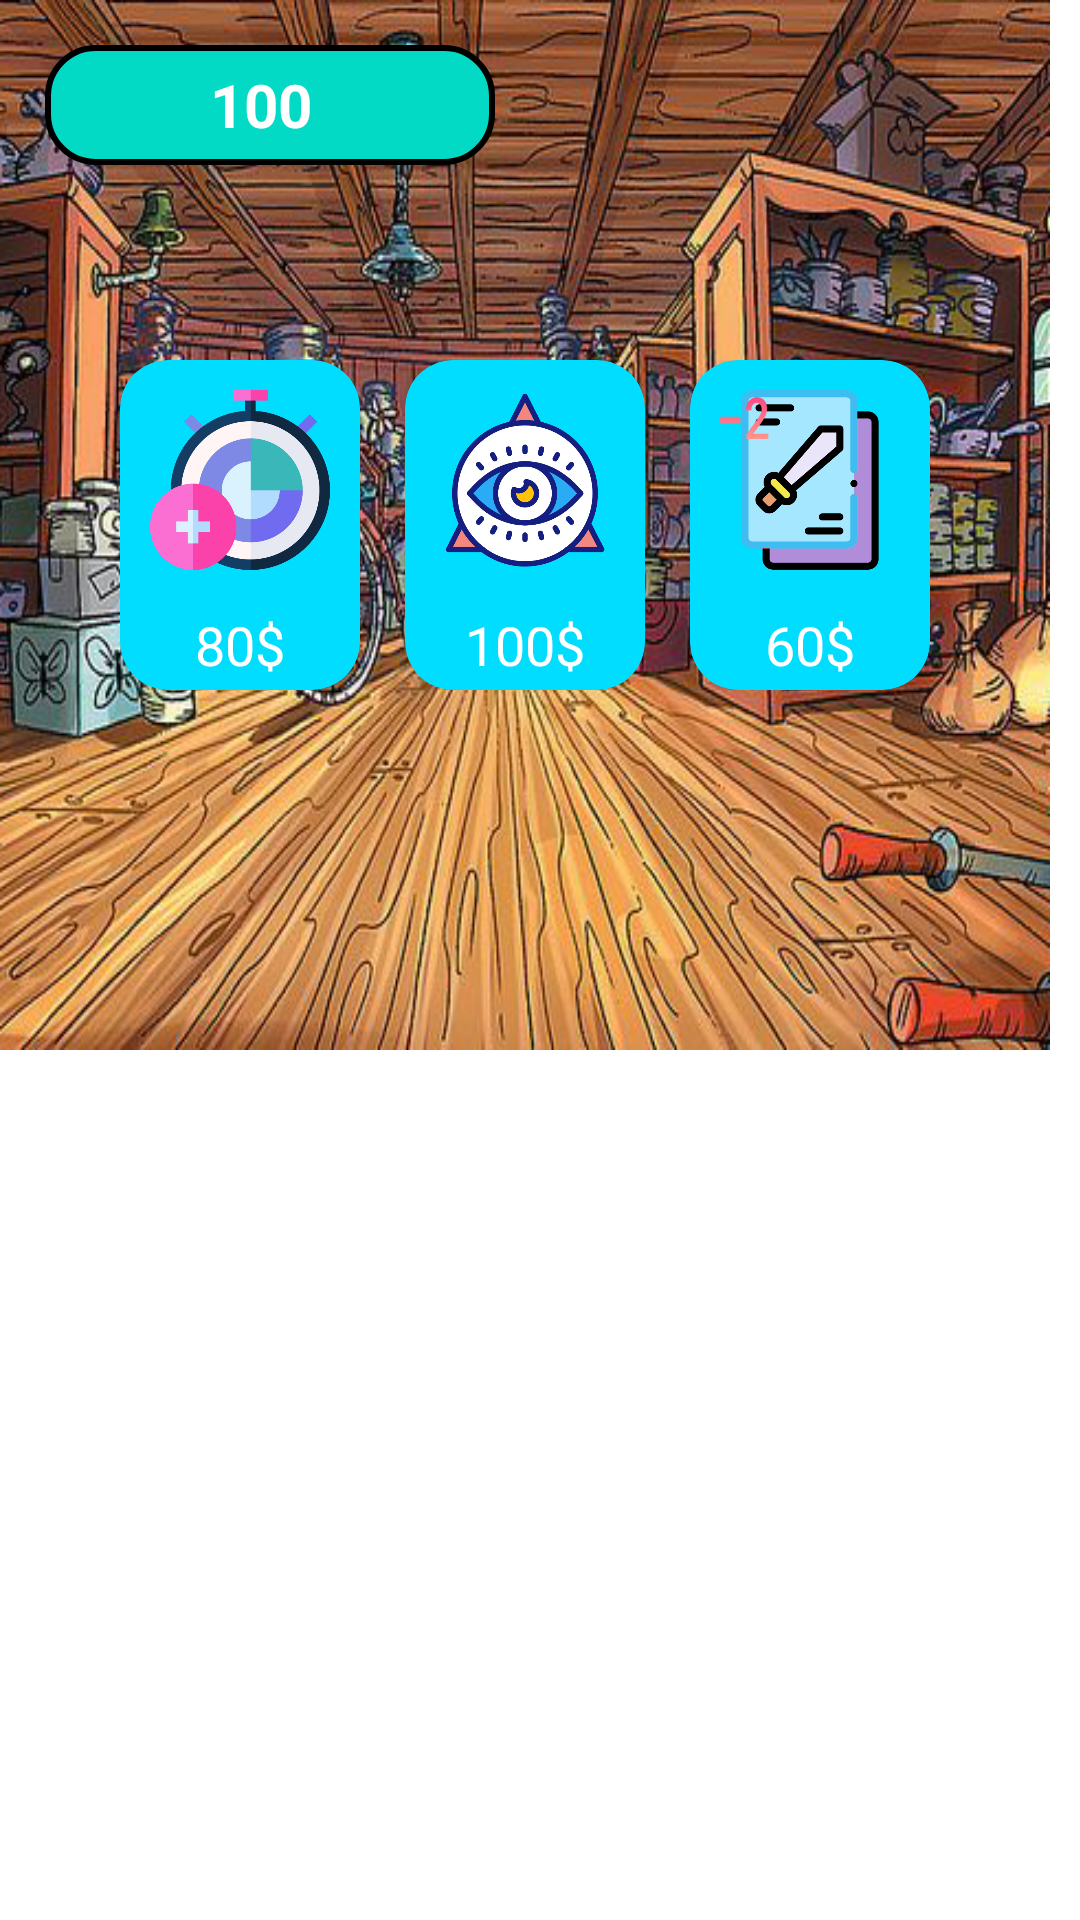

Named icons in this screenshot (1080 × 1920) and their centers, [x,y]:
chronometer: [240,480]
minus card: [810,480]
see: [525,480]
